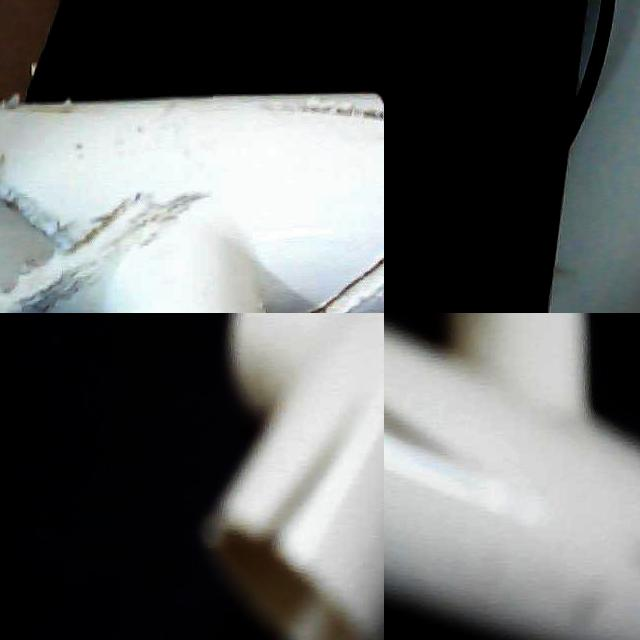Defective: (213, 94, 384, 313), (76, 156, 219, 306), (0, 94, 91, 313), (245, 452, 346, 599), (384, 381, 456, 491)
T Joint: (0, 93, 384, 313), (384, 313, 640, 640)
